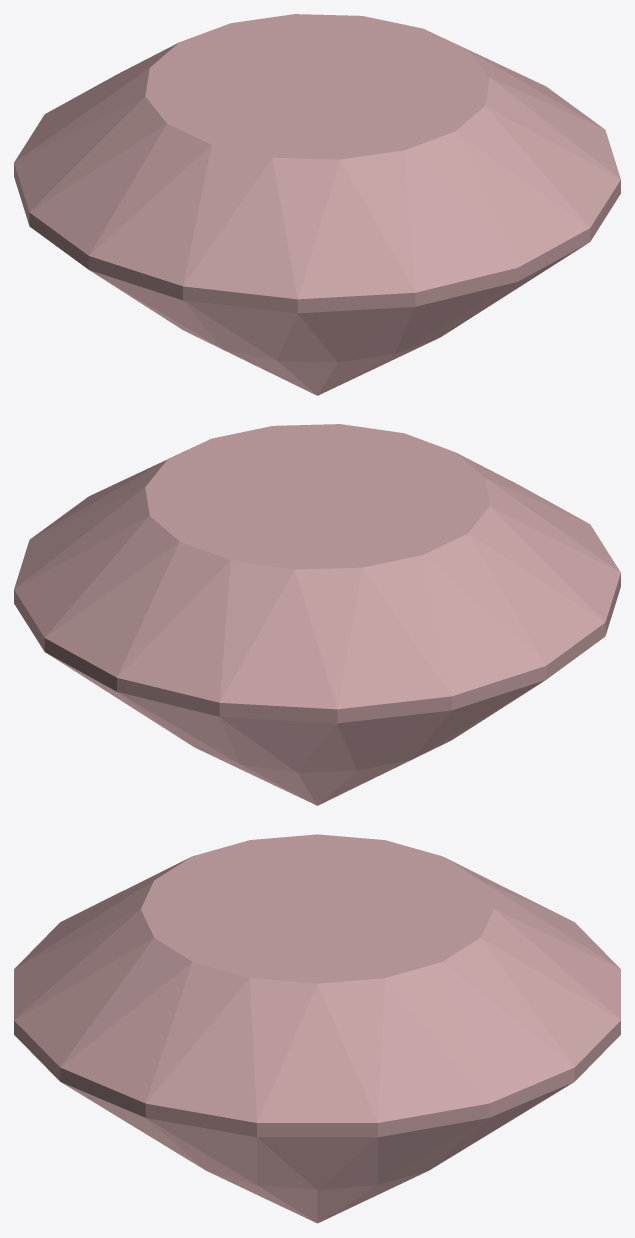
The model's file is garnet.glb.
The picture shows the model from 3 angles, top to bottom: view 1: azimuth 30°, elevation 25°; view 2: azimuth 150°, elevation 25°; view 3: azimuth 270°, elevation 25°; orthographic projection.
Visible parts, largest first — view 1: garnet; view 2: garnet; view 3: garnet.
Boxes of the visible parts, x1,y1,x2,y2 form: garnet: [14, 14, 620, 395]; garnet: [14, 424, 620, 805]; garnet: [14, 834, 620, 1223].
Size of the model in its own units: 0.25 by 0.1429 by 0.25.
